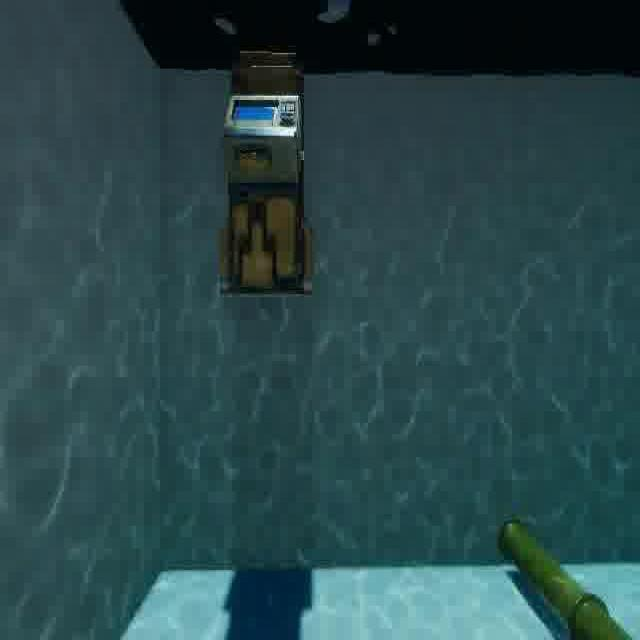Control Panel: (219, 46, 316, 311)
Pipe: (493, 494, 640, 640)
